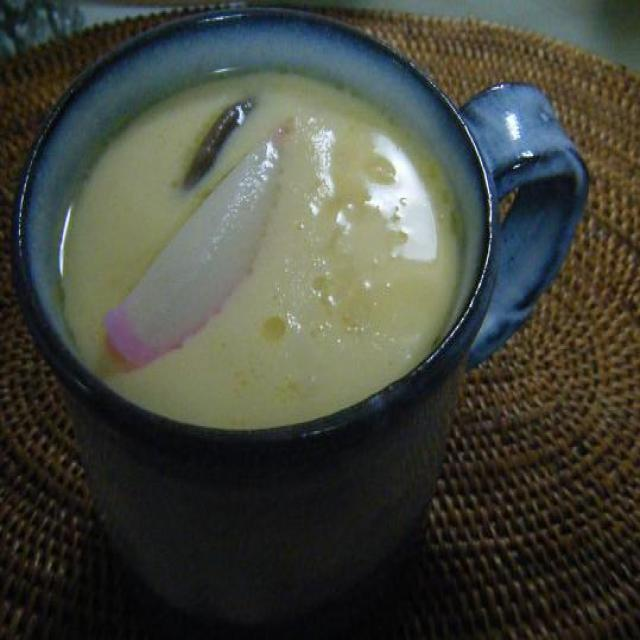鸡蛋料理: (18, 26, 504, 548)
